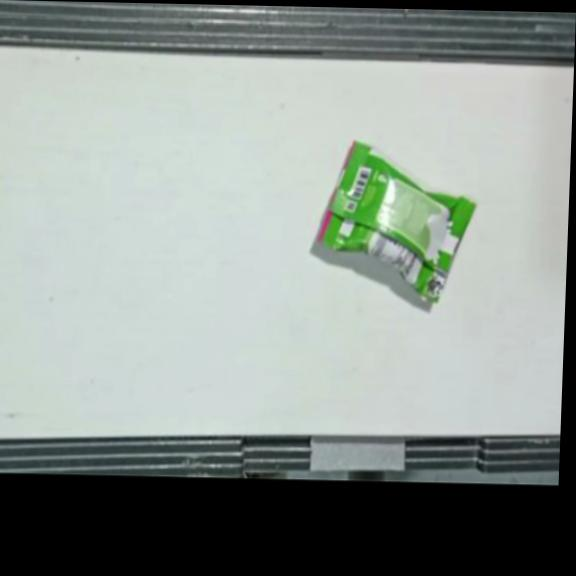Plastik: (313, 141, 479, 304)
